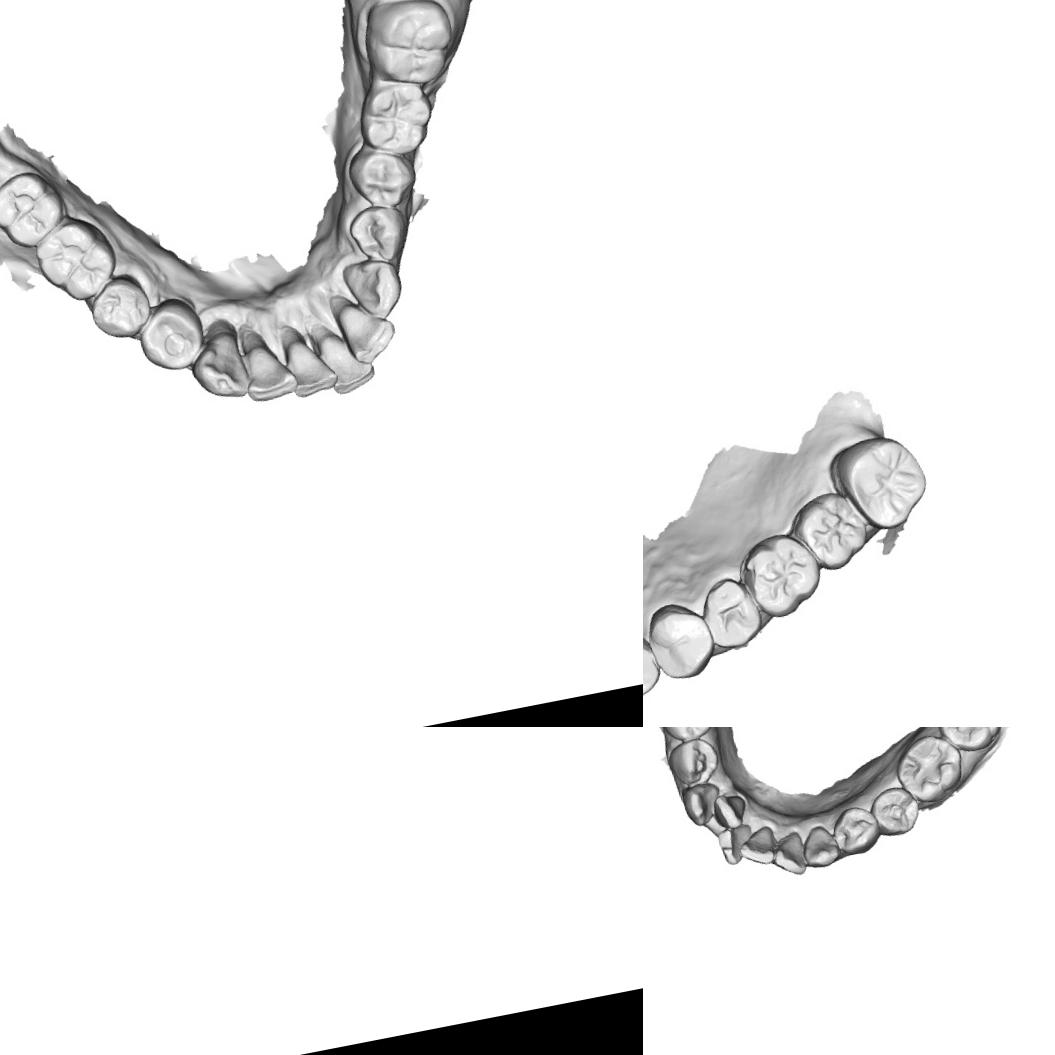canine: (183, 323, 254, 407), (337, 252, 410, 324), (676, 778, 729, 830), (797, 820, 843, 871), (643, 617, 666, 708)
incisor: (328, 290, 401, 368), (237, 335, 298, 404), (319, 328, 380, 396), (282, 330, 338, 398), (767, 827, 811, 880), (713, 820, 762, 867), (734, 821, 780, 870), (708, 790, 750, 832)
molar: (824, 430, 935, 538), (356, 0, 464, 93), (28, 212, 122, 310), (737, 526, 828, 623), (788, 484, 878, 576), (350, 70, 438, 164), (888, 727, 970, 809), (0, 164, 71, 255), (929, 727, 1010, 757)
premolar: (643, 595, 722, 685), (130, 296, 209, 378), (694, 571, 766, 655), (344, 141, 421, 215), (84, 271, 156, 346), (341, 200, 412, 272), (662, 734, 724, 790), (865, 781, 923, 840), (827, 801, 884, 859), (653, 727, 722, 745)
